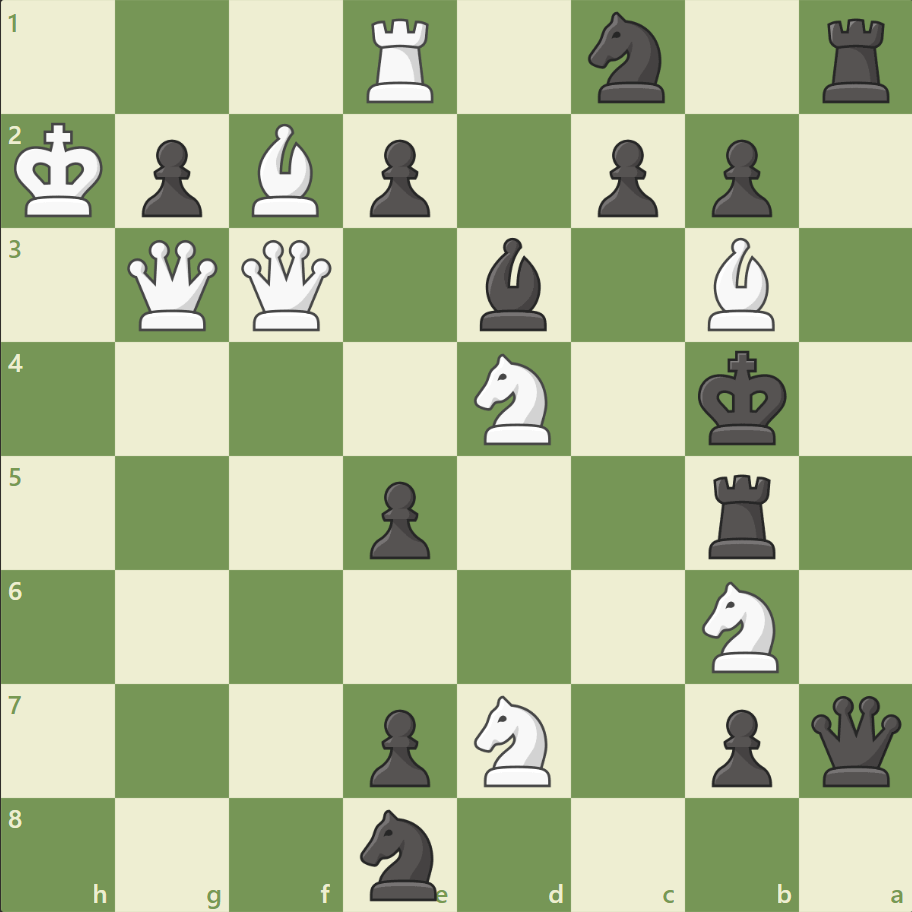B: (698, 233, 782, 336), (244, 120, 328, 222)
K: (11, 117, 111, 225)
N: (465, 688, 562, 791), (692, 575, 789, 677), (465, 348, 562, 450)
Q: (237, 236, 336, 335), (124, 236, 223, 335)
R: (360, 12, 442, 109)
b: (471, 233, 555, 336)
k: (692, 344, 792, 452)
n: (351, 802, 449, 904), (579, 7, 676, 110)
p: (701, 700, 776, 791), (701, 132, 776, 223), (133, 132, 208, 223), (361, 700, 435, 791), (361, 473, 435, 564), (588, 132, 662, 223), (361, 132, 435, 223)
q: (805, 690, 904, 789)
r: (700, 466, 783, 563), (814, 12, 897, 109)
